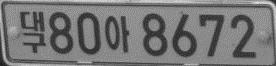0: (77, 11, 101, 55)
2: (230, 13, 257, 58)
6: (171, 13, 198, 58)
7: (198, 13, 225, 56)
8: (142, 12, 167, 56), (49, 11, 74, 54)
대구_V: (20, 11, 46, 53)
아: (104, 15, 130, 53)
